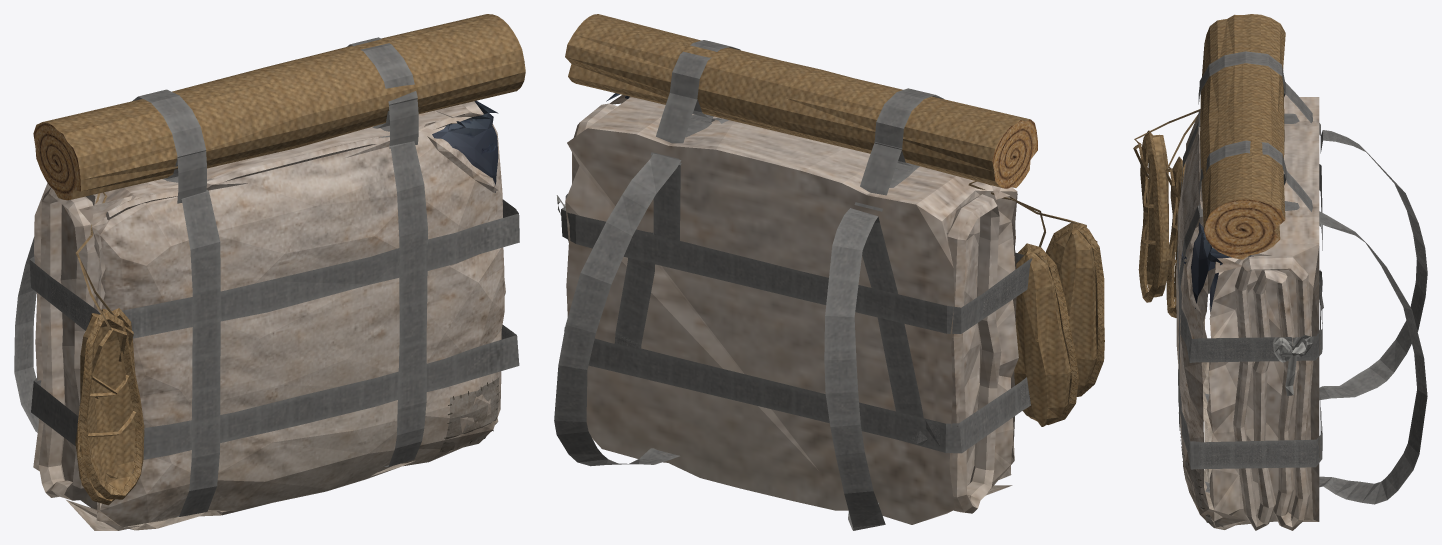
File: Model_SichuanBlanketPack.glb
3 renders of one model, left to right at view 1: azimuth 30°, elevation 25°; view 2: azimuth 150°, elevation 25°; view 3: azimuth 270°, elevation 25°, orthographic. The views are drawn at different scales.
Parts seen in each view (by area): view 1: Game_RelaxedFrontLeafV10, Game_ContinuousClothStrap, Pack_GameRolledGrassMatV10, Game_BundleEnvelopeV10, Pack_GameMatCottonRetainersV10, Pack_GameGrassSandal01SoleV10, Pack_GameGrassSandal01BraidedRimV10, Pack_GameRolledMatEndCapsV10, Game_JacketExposedCorner, Game_RepairPatchV10, Pack_GameGrassSandal01OpenLacesV10, Game_TurnedClothLipV10 (+1 smaller); view 2: Game_BundleEnvelopeV10, Game_ContinuousClothStrap, Pack_GameRolledGrassMatV10, Pack_GameGrassSandal02SoleV10, Pack_GameMatCottonRetainersV10, Pack_GameGrassSandal01SoleV10, Pack_GameRolledMatEndCapsV10, Pack_GameGrassSandal01BraidedRimV10, Pack_GameGrassSandal02BraidedRimV10, Game_RelaxedFrontLeafV10; view 3: Game_BundleEnvelopeV10, Game_ContinuousClothStrap, Pack_GameRolledGrassMatV10, Game_RelaxedFrontLeafV10, Pack_GameRolledMatEndCapsV10, Pack_GameMatCottonRetainersV10, Pack_GameGrassSandal01BraidedRimV10, Pack_GameGrassSandal01SoleV10, Game_JacketExposedCorner, Pack_GameGrassSandal02BraidedRimV10, Game_RepairPatchV10, Pack_GameGrassSandal01OpenLacesV10 (+2 smaller).
Boxes of the visible parts, x1,y1,x2,y2 form: Game_RelaxedFrontLeafV10: (66,111,504,530); Game_ContinuousClothStrap: (14,125,519,516); Pack_GameRolledGrassMatV10: (42,14,525,199); Game_BundleEnvelopeV10: (33,101,505,530); Pack_GameMatCottonRetainersV10: (132,37,418,203); Pack_GameGrassSandal01SoleV10: (80,313,135,488); Pack_GameGrassSandal01BraidedRimV10: (79,312,144,499); Pack_GameRolledMatEndCapsV10: (33,122,80,200); Game_JacketExposedCorner: (432,100,498,192); Game_RepairPatchV10: (439,377,499,452); Pack_GameGrassSandal01OpenLacesV10: (88,327,136,436); Game_TurnedClothLipV10: (427,136,498,192); Game_BundleEnvelopeV10: (565,96,1018,524); Game_ContinuousClothStrap: (554,114,1032,530); Pack_GameRolledGrassMatV10: (565,14,1029,188); Pack_GameGrassSandal02SoleV10: (1014,250,1070,426); Pack_GameMatCottonRetainersV10: (651,40,943,211); Pack_GameGrassSandal01SoleV10: (1049,228,1096,394); Pack_GameRolledMatEndCapsV10: (992,119,1037,188); Pack_GameGrassSandal01BraidedRimV10: (1046,222,1104,396); Pack_GameGrassSandal02BraidedRimV10: (1018,243,1078,424); Game_RelaxedFrontLeafV10: (610,95,1017,495); Game_BundleEnvelopeV10: (1199,94,1319,530); Game_ContinuousClothStrap: (1177,113,1427,504); Pack_GameRolledGrassMatV10: (1200,14,1285,238); Game_RelaxedFrontLeafV10: (1176,109,1246,529); Pack_GameRolledMatEndCapsV10: (1204,199,1285,259); Pack_GameMatCottonRetainersV10: (1198,51,1320,225); Pack_GameGrassSandal01BraidedRimV10: (1138,130,1163,302); Pack_GameGrassSandal01SoleV10: (1146,134,1169,297); Game_JacketExposedCorner: (1191,222,1253,308); Pack_GameGrassSandal02BraidedRimV10: (1166,156,1184,317); Game_RepairPatchV10: (1183,449,1223,527); Pack_GameGrassSandal01OpenLacesV10: (1133,143,1155,244).
Bounding box in the file's own units: 0.4351 × 0.3548 × 0.2682.
Materials: 1 (1 with a texture image).
